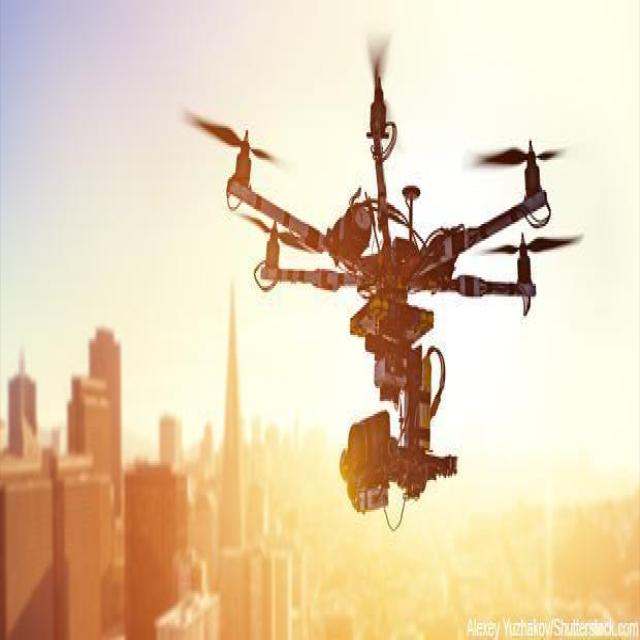drone: (226, 70, 552, 534)
